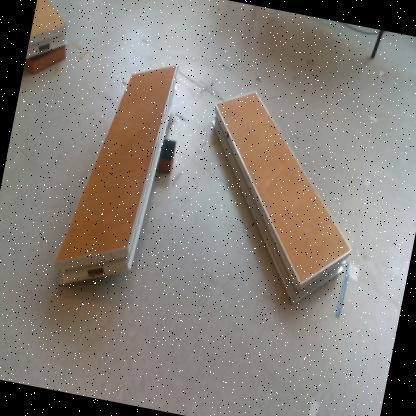Stairs: (210, 90, 351, 308), (55, 63, 178, 288), (26, 1, 67, 59)
